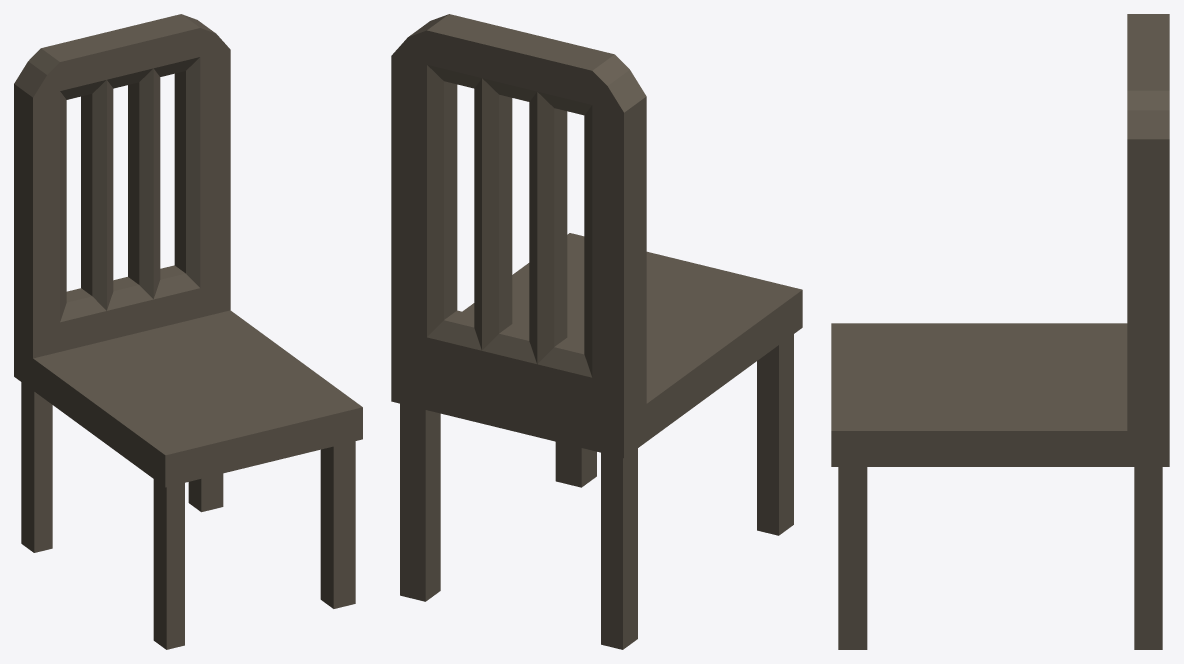
The model's file is Chair.fbx.
3 renders of one model, left to right at view 1: azimuth 30°, elevation 25°; view 2: azimuth 150°, elevation 25°; view 3: azimuth 270°, elevation 25°, orthographic. The views are drawn at different scales.
Parts seen in each view (by area): view 1: Chair; view 2: Chair; view 3: Chair.
Boxes of the visible parts, x1=… form: Chair: x1=14, y1=14, x2=362, y2=649; Chair: x1=391, y1=14, x2=802, y2=649; Chair: x1=831, y1=14, x2=1169, y2=649.
Size of the model in its own units: 123 by 291 by 164.
1 material, 1 textured.
